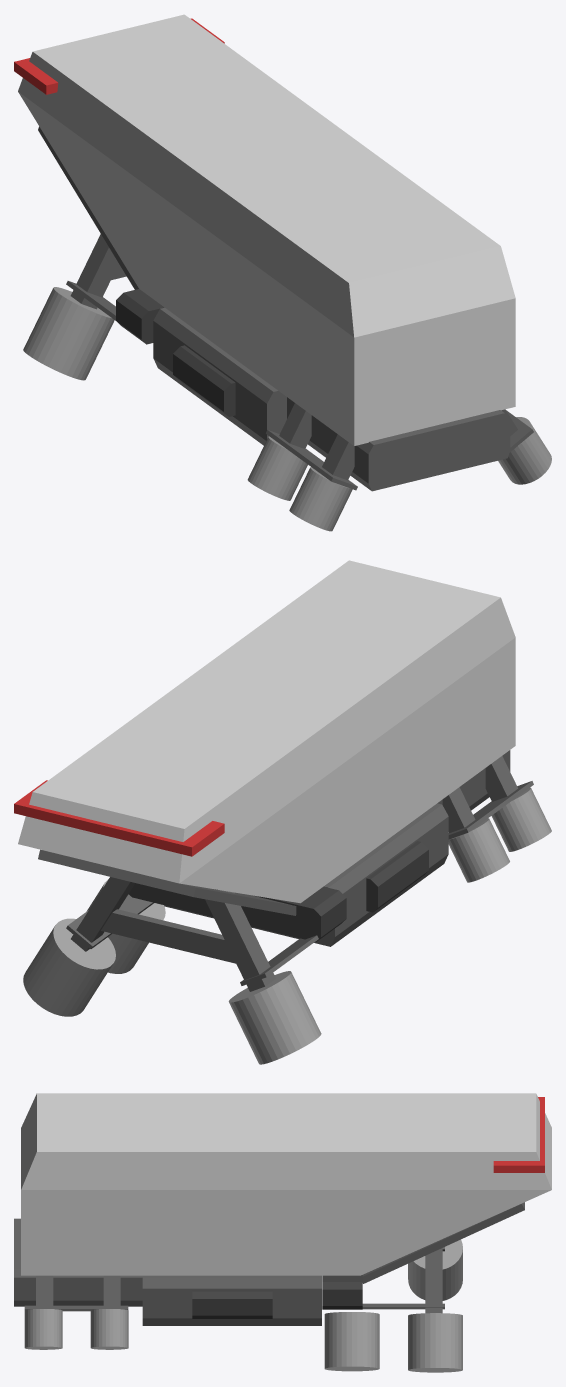
The model's file is Truck trailer.fbx.
3 renders of one model, top to bottom at view 1: azimuth 30°, elevation 25°; view 2: azimuth 150°, elevation 25°; view 3: azimuth 270°, elevation 25°, orthographic. The views are drawn at different scales.
Visible parts, largest first — view 1: Truck; view 2: Truck; view 3: Truck.
Part boxes in pixels (x1,y1,x2,y2): Truck: (14, 14, 551, 531); Truck: (14, 560, 551, 1064); Truck: (14, 1093, 551, 1372).
Bounding box in the file's own units: 334 × 298 × 676.
